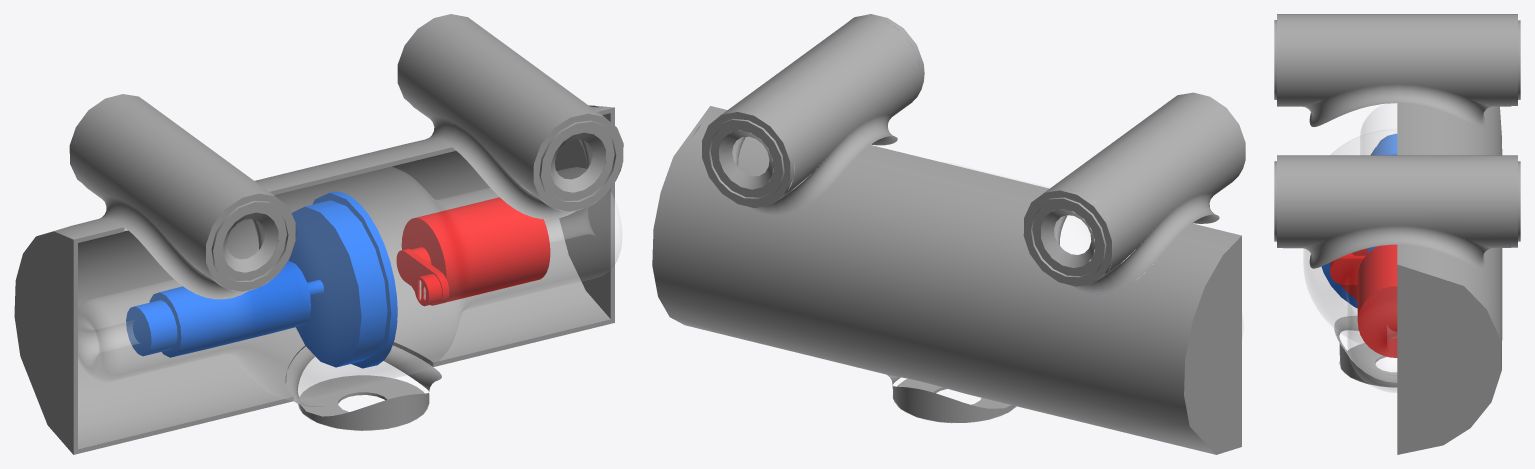
Rendered from xray_tube.glb.
3 renders of one model, left to right at view 1: azimuth 30°, elevation 25°; view 2: azimuth 150°, elevation 25°; view 3: azimuth 270°, elevation 25°, orthographic. The views are drawn at different scales.
Bounding box in the file's own units: 0.6364 × 0.3414 × 0.2831.
